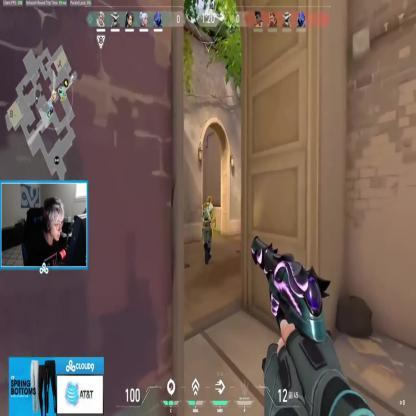enemy: (201, 193, 214, 266)
enemy_head: (208, 196, 212, 204)
